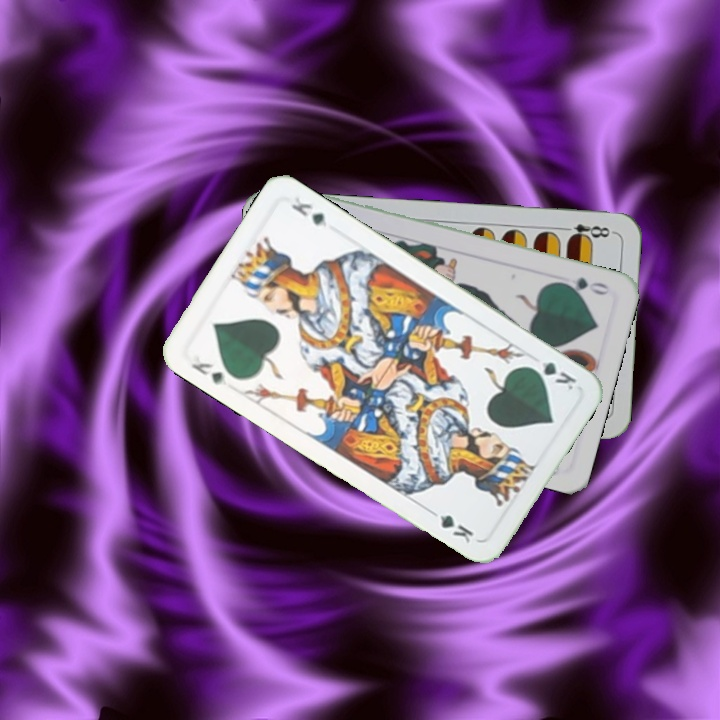E8: (557, 220, 616, 244)
GK: (523, 356, 580, 393), (187, 358, 231, 388)
GO: (555, 273, 612, 298)
